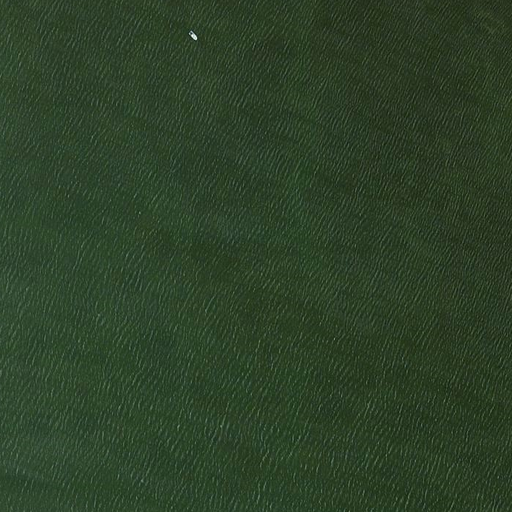ship: (185, 28, 200, 42)
